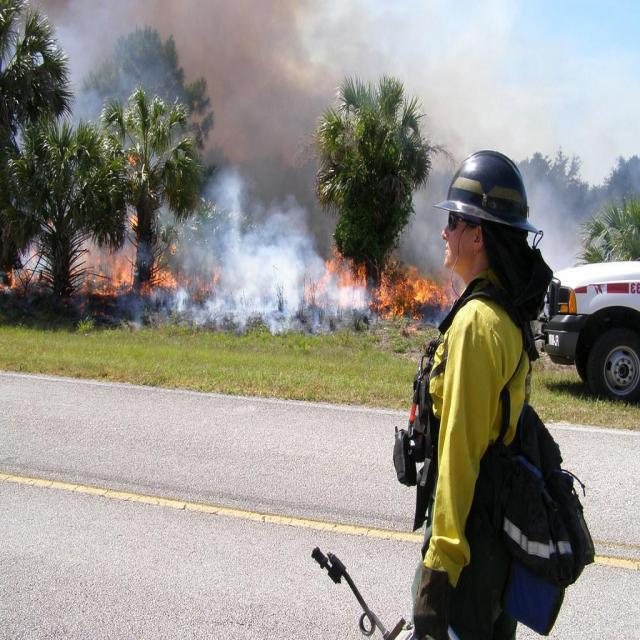Fire: (317, 236, 451, 320), (78, 226, 138, 298), (150, 246, 184, 294)
Smoke: (170, 4, 328, 176), (200, 180, 318, 328)
